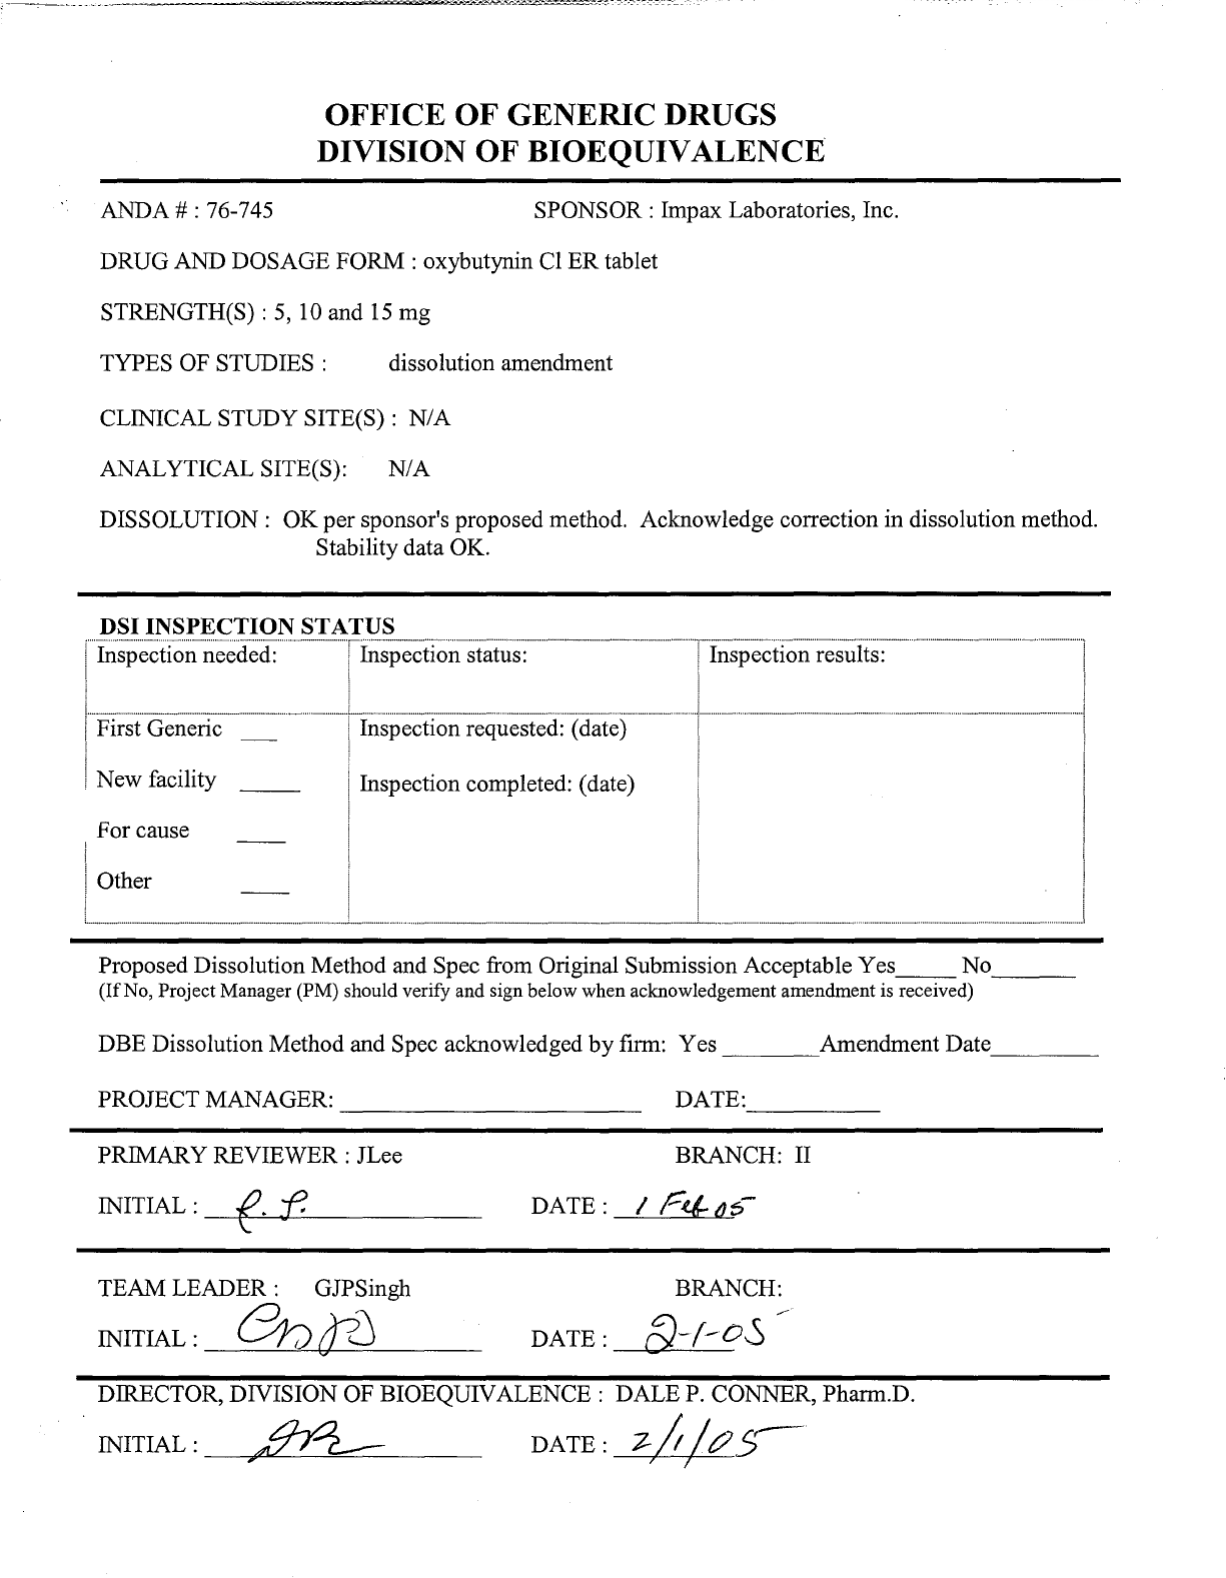full_lined: (83, 637, 1089, 925)
